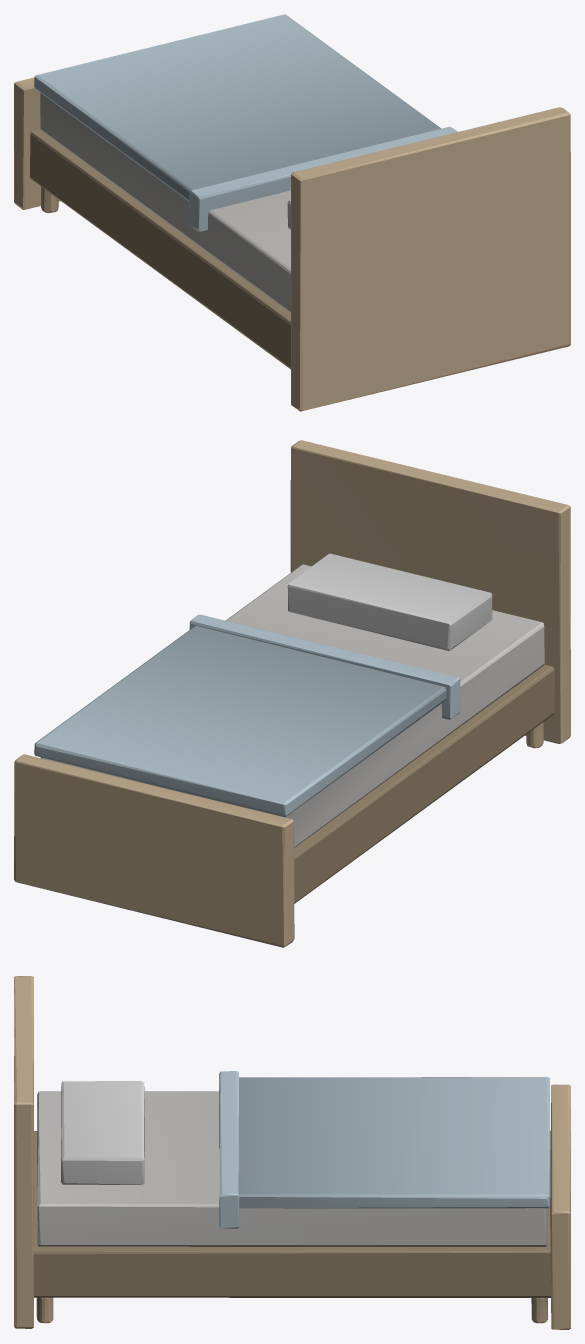
The model's file is furn_bed__sky_low.glb.
3 renders of one model, top to bottom at view 1: azimuth 30°, elevation 25°; view 2: azimuth 150°, elevation 25°; view 3: azimuth 270°, elevation 25°, orthographic. The views are drawn at different scales.
Size of the model in its own units: 1.16 by 0.9554 by 2.12.
